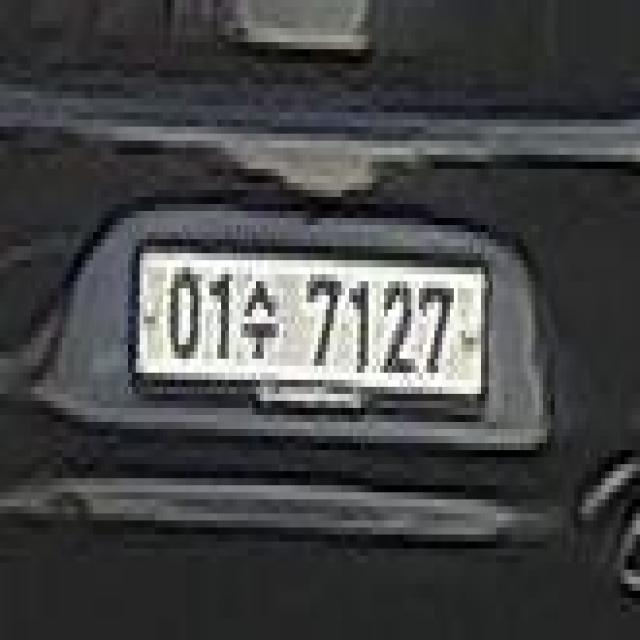illegal_plate: (131, 233, 495, 425)
